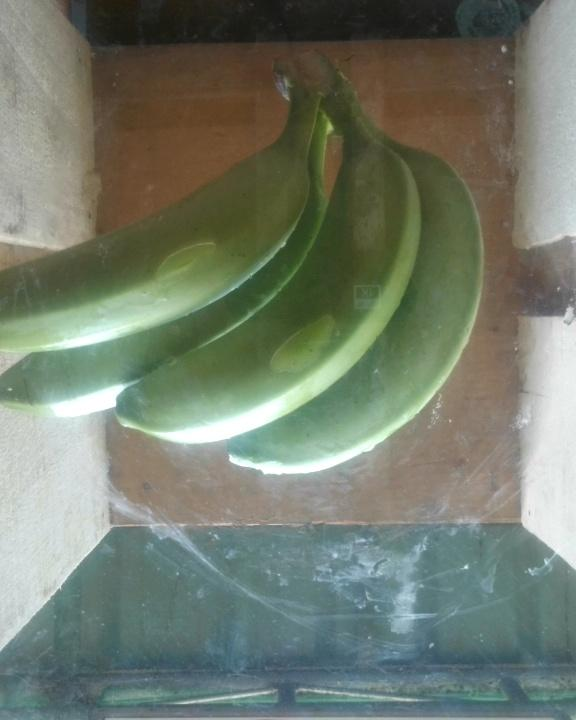SPOT: (4, 51, 501, 488)
